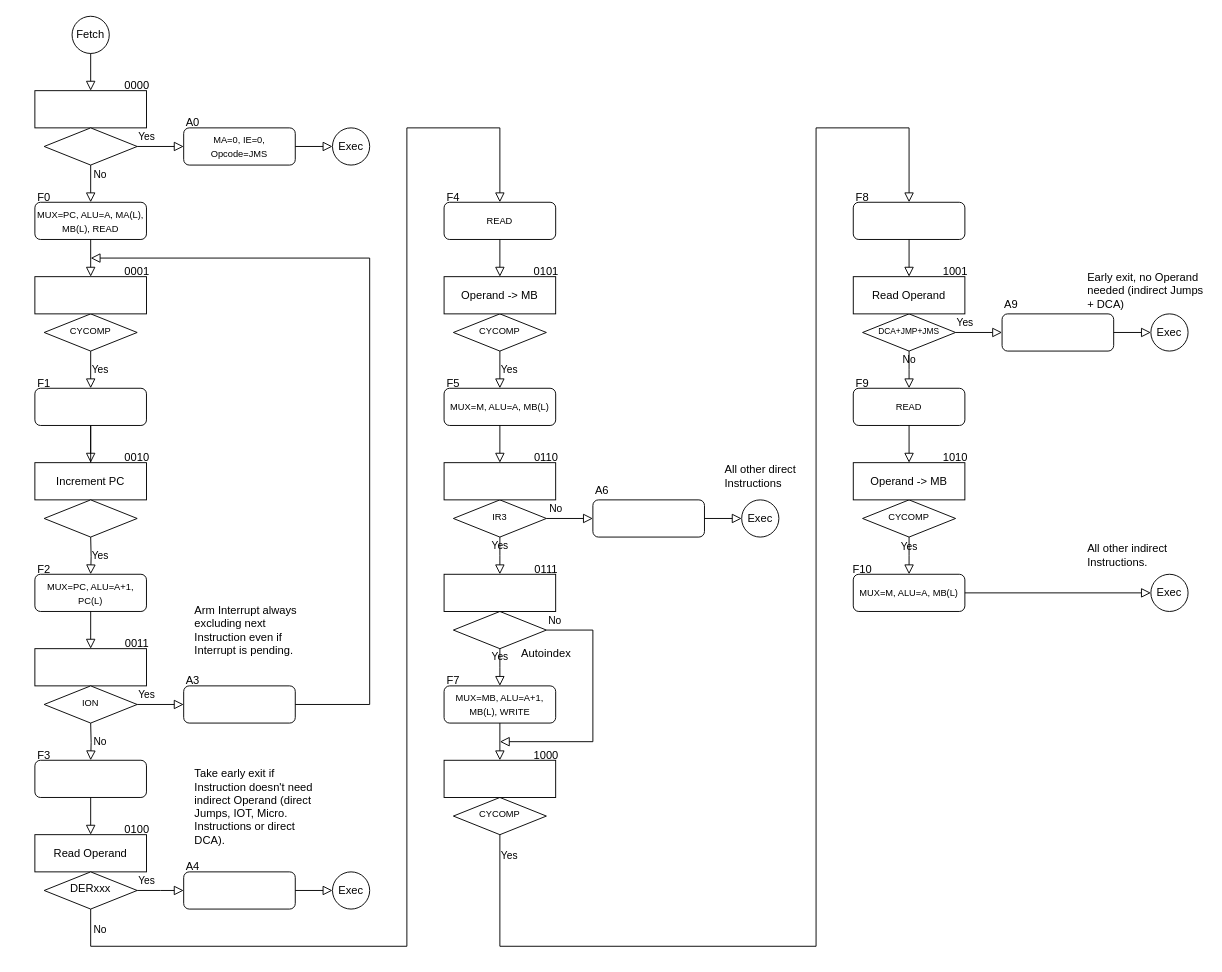
Image size: 1222x972. Some labels were removed from this diagram. The centre of each missing label's shape, as x and y in pixels:
"Auto Index Register" belongs at point 499,592.
"Get effective Adress" belongs at point 499,778.
"Get next Instruction" belongs at point 90,109.
"Load into IR" belongs at point 90,295.
"MA=001x" belongs at point 499,630.
"MUX=EA, ALU=A, IR(L)" belongs at point 90,778.
"MUX=MB, ALU=A, MA(L)" belongs at point 908,220.
"MUX=Mem, ALU=A, IR(L)" belongs at point 90,406.
"MUX=PC, ALU=A, MA(L), READ, IE=True" belongs at point 239,704.
"PINT & IIE" belongs at point 90,146.
"Prepare to read Operand" belongs at point 90,667.
"Process indirect" belongs at point 499,481.
"True" belongs at point 90,518.
